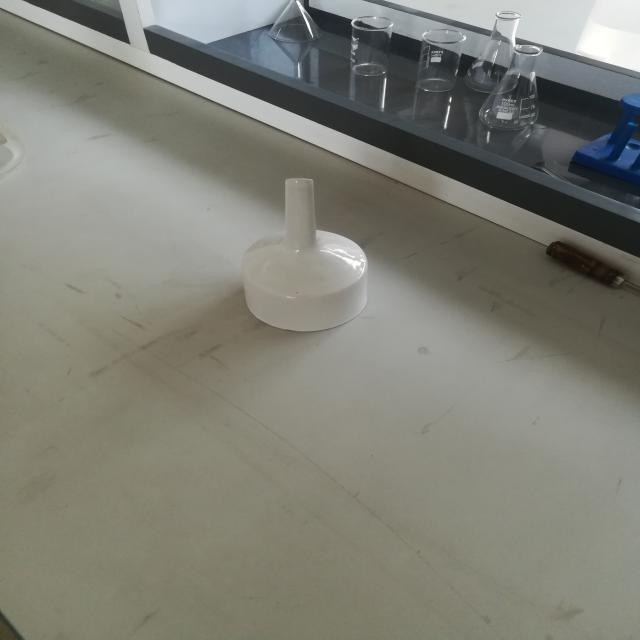Buchner_Funnel: (192, 138, 402, 359)
